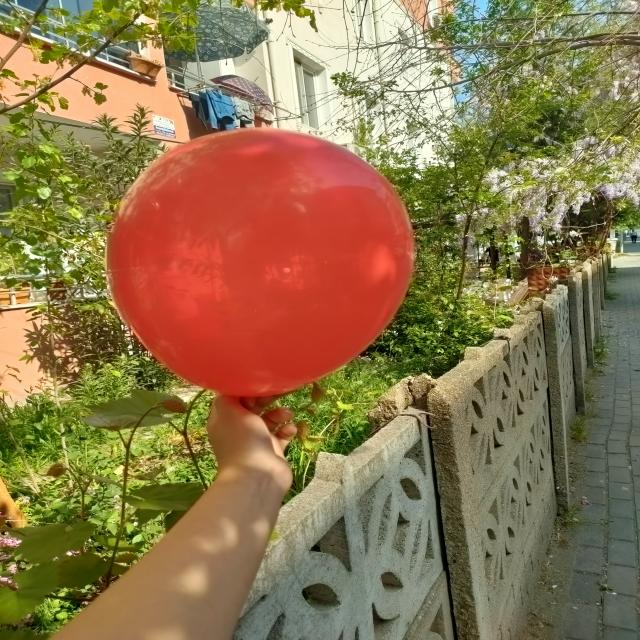red: (110, 131, 415, 402)
